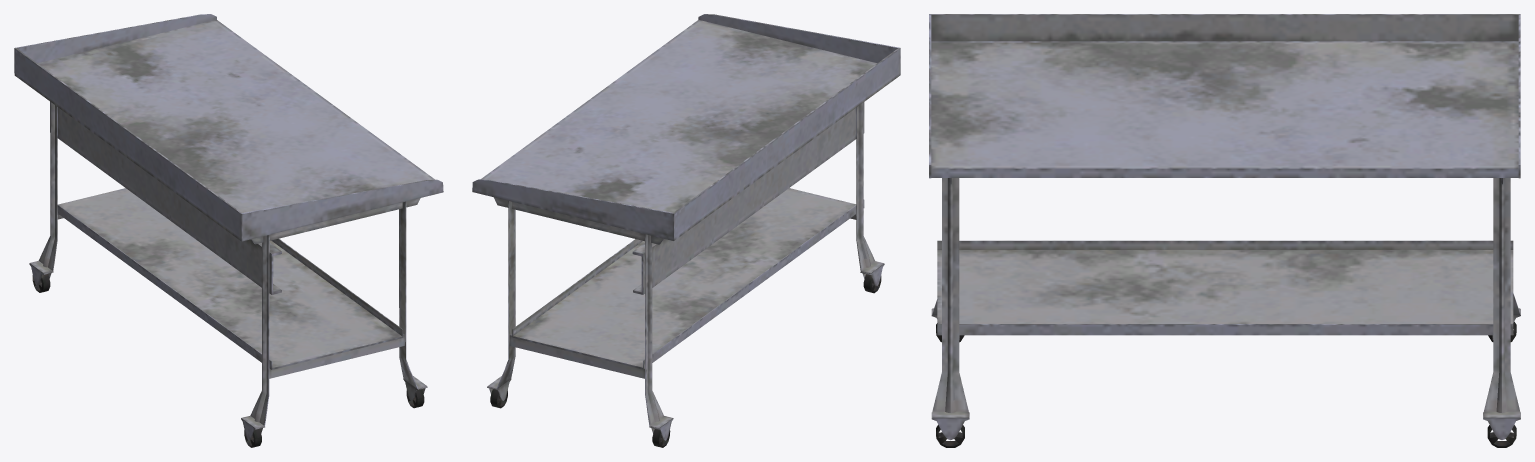
The model's file is sm22_040_workbench01a.fbx.
3 renders of one model, left to right at view 1: azimuth 30°, elevation 25°; view 2: azimuth 150°, elevation 25°; view 3: azimuth 270°, elevation 25°, orthographic. The views are drawn at different scales.
Parts seen in each view (by area): view 1: LOD_1_Group_0_Sub_1__sm22_040_WorkBench01A_A_Mat__Env_AlphaT; view 2: LOD_1_Group_0_Sub_1__sm22_040_WorkBench01A_A_Mat__Env_AlphaT; view 3: LOD_1_Group_0_Sub_1__sm22_040_WorkBench01A_A_Mat__Env_AlphaT.
Part boxes in pixels (<box>): LOD_1_Group_0_Sub_1__sm22_040_WorkBench01A_A_Mat__Env_AlphaT: <box>14,14,443,447</box>; LOD_1_Group_0_Sub_1__sm22_040_WorkBench01A_A_Mat__Env_AlphaT: <box>472,14,900,447</box>; LOD_1_Group_0_Sub_1__sm22_040_WorkBench01A_A_Mat__Env_AlphaT: <box>929,14,1520,447</box>.
Bounding box in the file's own units: 1.01 × 1.15 × 1.96.
